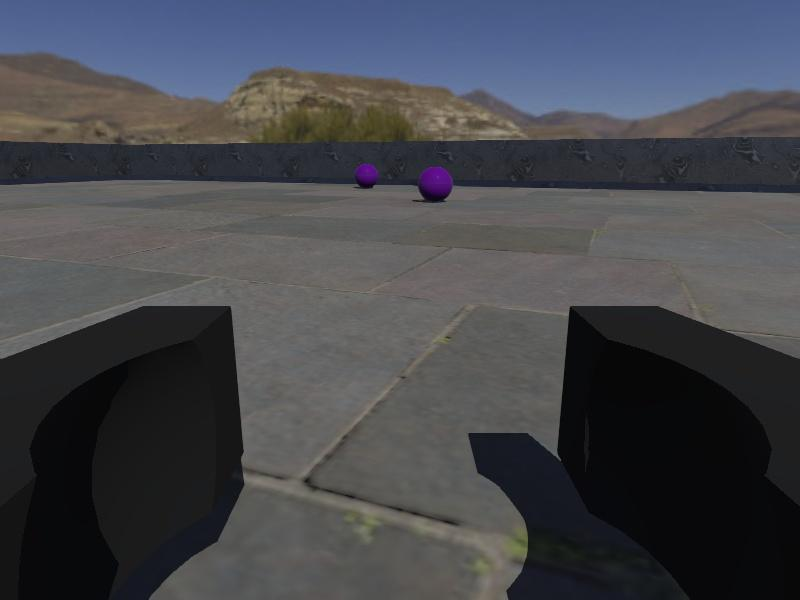violet ball: (417, 165, 453, 202), (355, 162, 380, 188)
